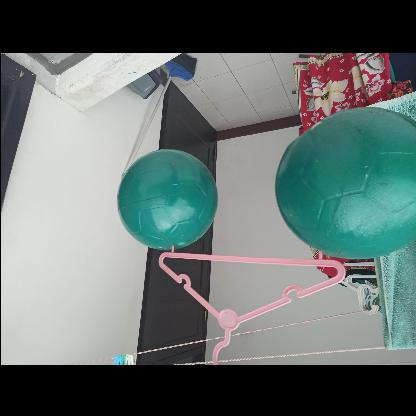green_ball: (113, 150, 214, 250)
